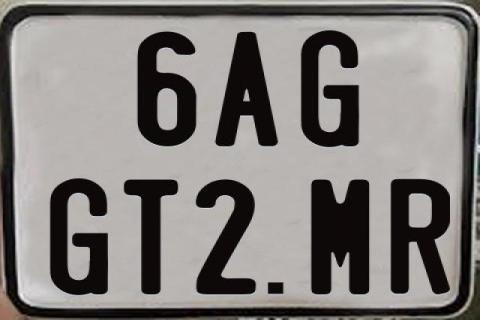0: (134, 29, 200, 144), (196, 177, 261, 293)
A: (213, 32, 281, 150)
G: (300, 29, 362, 149), (50, 176, 111, 296)
M: (309, 180, 372, 300)
R: (388, 180, 452, 300)
T: (122, 177, 178, 293)
